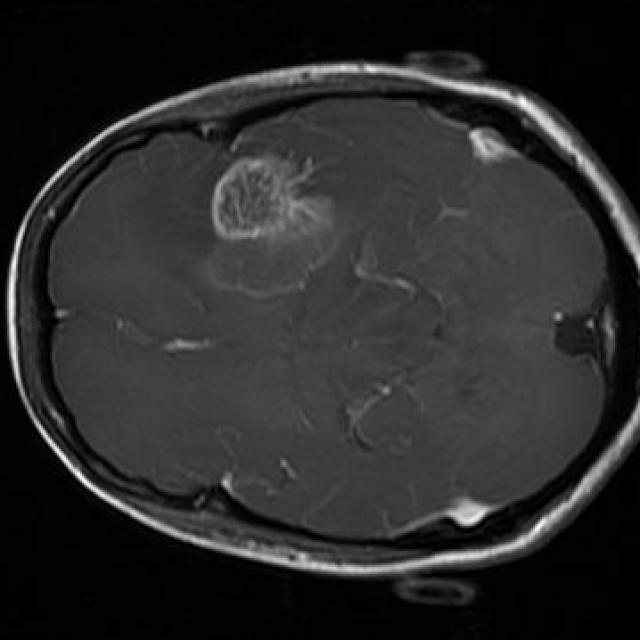glioma: (209, 157, 337, 292)
